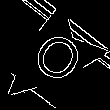O_SW: (19, 24, 83, 90)
